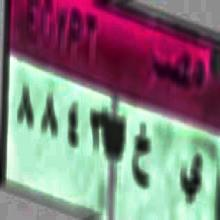3: (86, 104, 108, 160)
4: (64, 96, 84, 165)
8: (39, 94, 61, 147), (15, 83, 34, 141)
khaa: (130, 126, 156, 198)
yaa: (176, 148, 203, 204)
